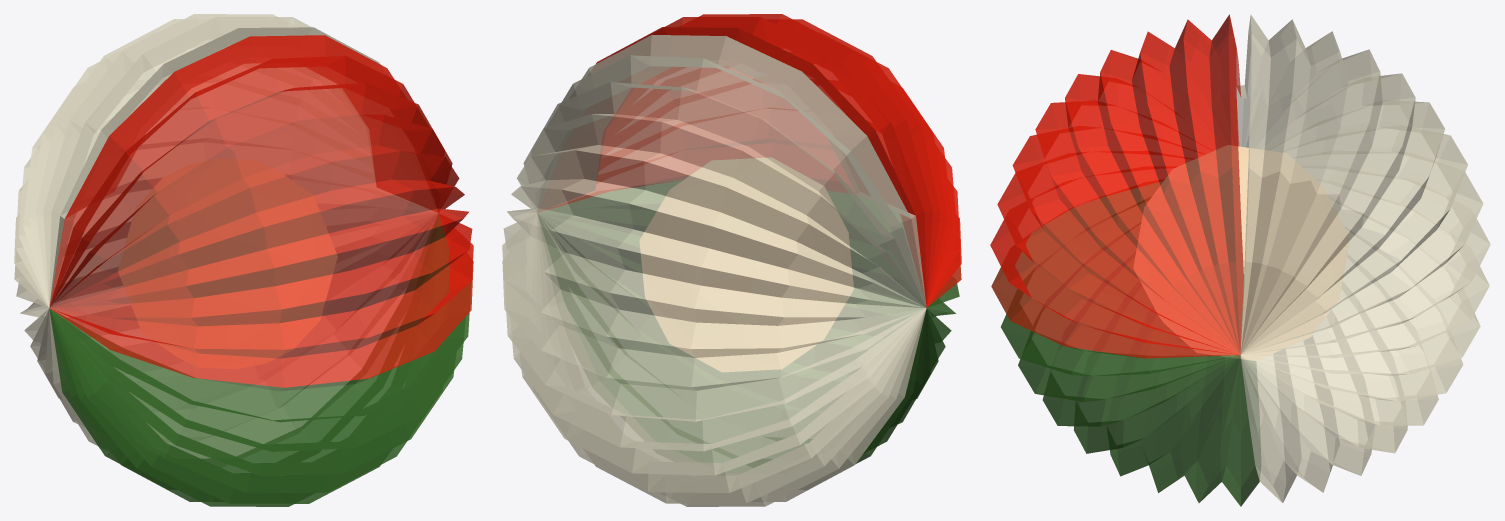
Rendered from paper_lantern.glb.
The picture shows the model from 3 angles, left to right: view 1: azimuth 30°, elevation 25°; view 2: azimuth 150°, elevation 25°; view 3: azimuth 270°, elevation 25°; orthographic projection.
Parts seen in each view (by area): view 1: lantern, bulb; view 2: lantern, bulb; view 3: lantern, bulb.
Part boxes in pixels (left/top/right/bottom): lantern: left=14, top=14, right=473, bottom=506; bulb: left=118, top=159, right=337, bottom=368; lantern: left=502, top=14, right=961, bottom=506; bulb: left=639, top=157, right=853, bottom=372; lantern: left=990, top=14, right=1490, bottom=506; bulb: left=1133, top=145, right=1349, bottom=360.
Size of the model in its own units: 1.78 by 2 by 2.
